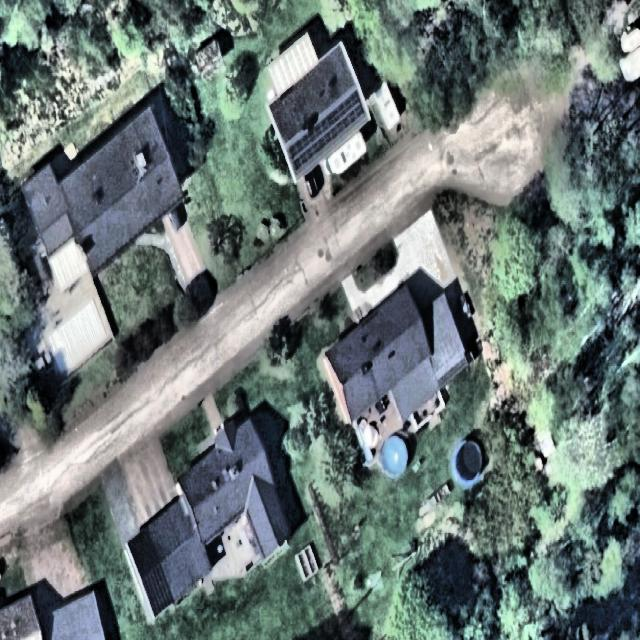roof_pv: (322, 86, 368, 146), (285, 126, 328, 178)
